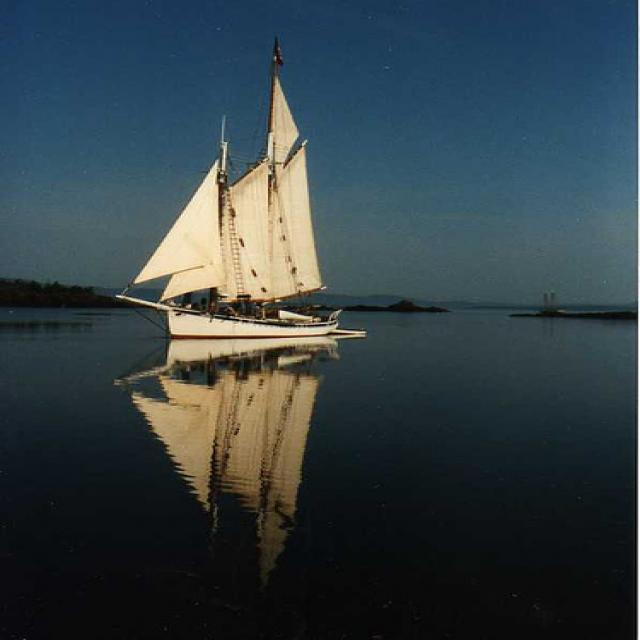Ship: (121, 64, 367, 369)
